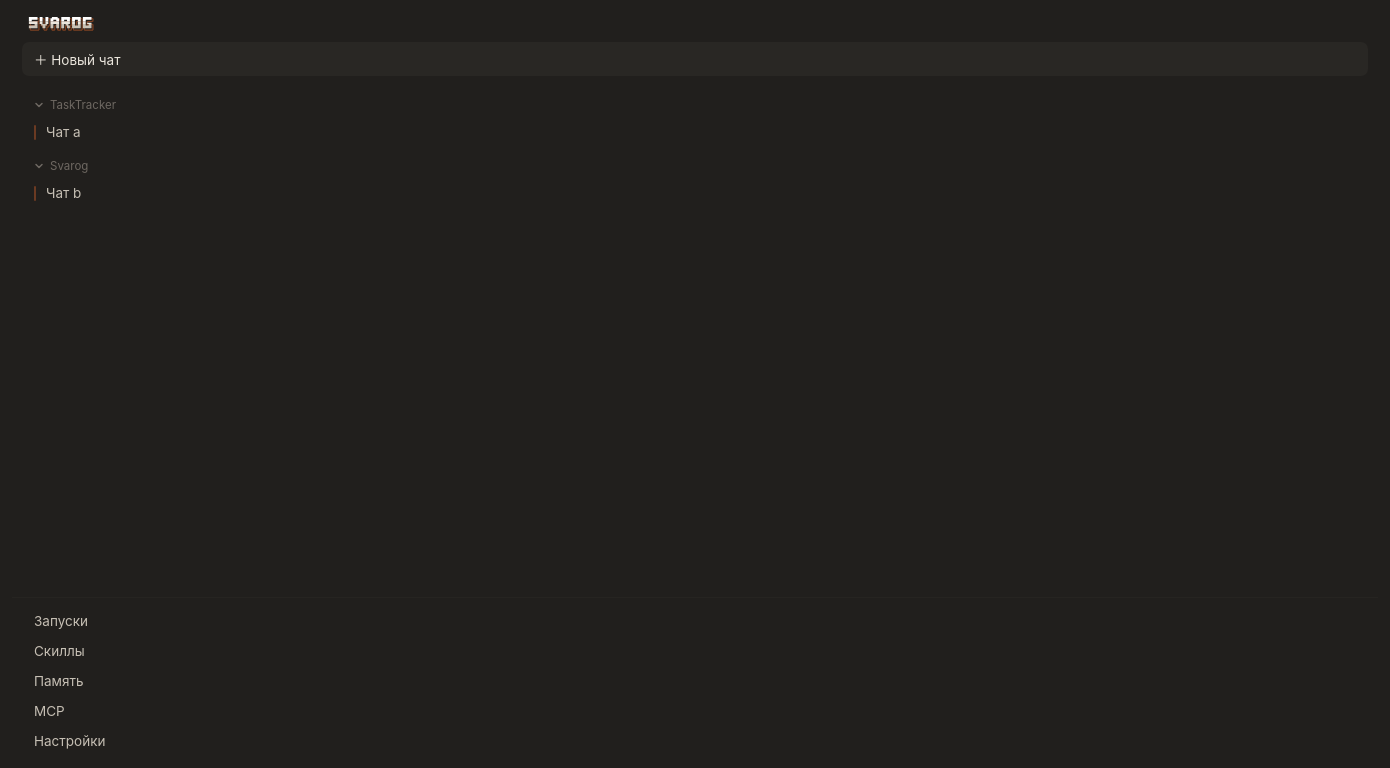
Test: группировка чатов по папкам › клик по заголовку сворачивает и разворачивает папку
Check: the text "Чат a" is shown, box [46, 124, 81, 140]
Click the button with test id "nav-group" showing "TaskTracker".
click(83, 105)  # box [12, 86, 1378, 117]
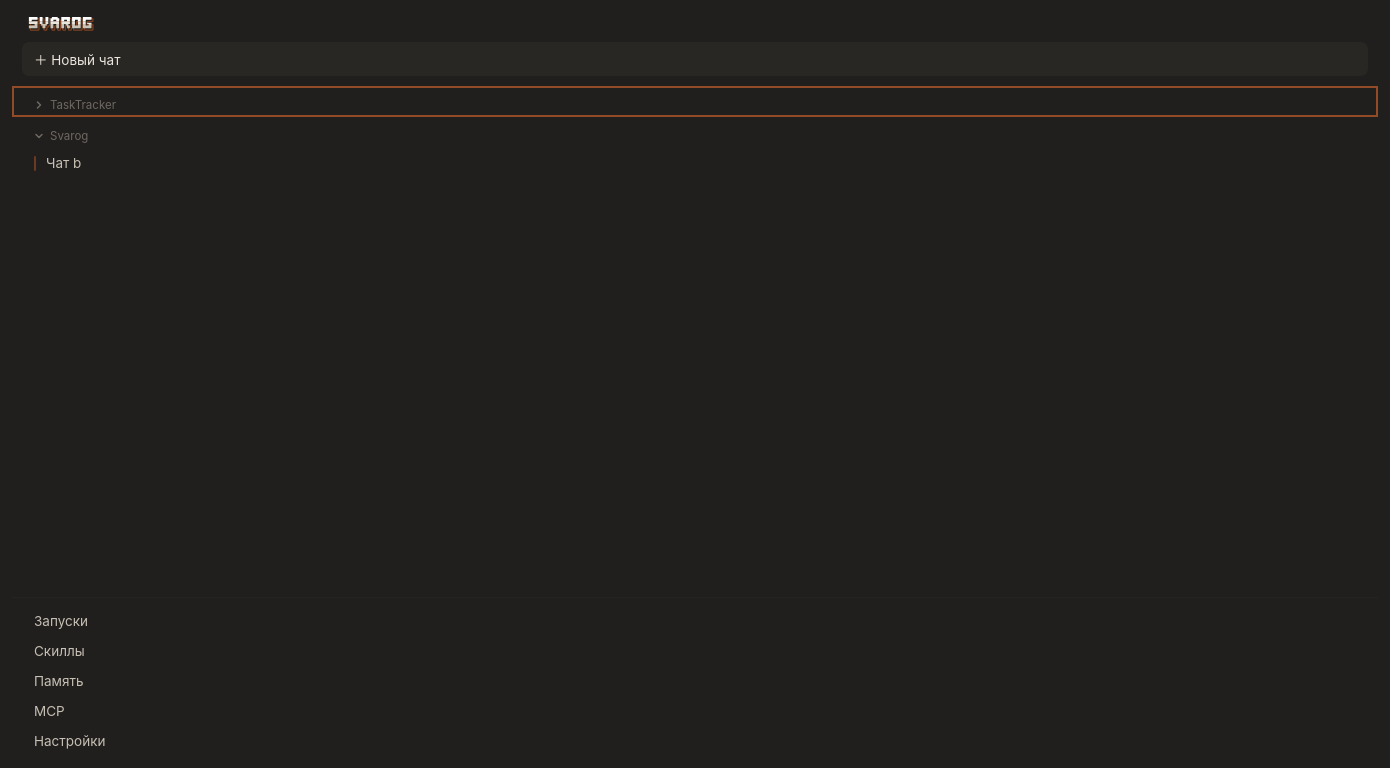
Check: the text "Чат b" is shown, box [46, 155, 81, 171]
Check: the button "Чат a" is gone
Click the button with test id "nav-group" showing "TaskTracker".
click(83, 105)  # box [12, 86, 1378, 117]
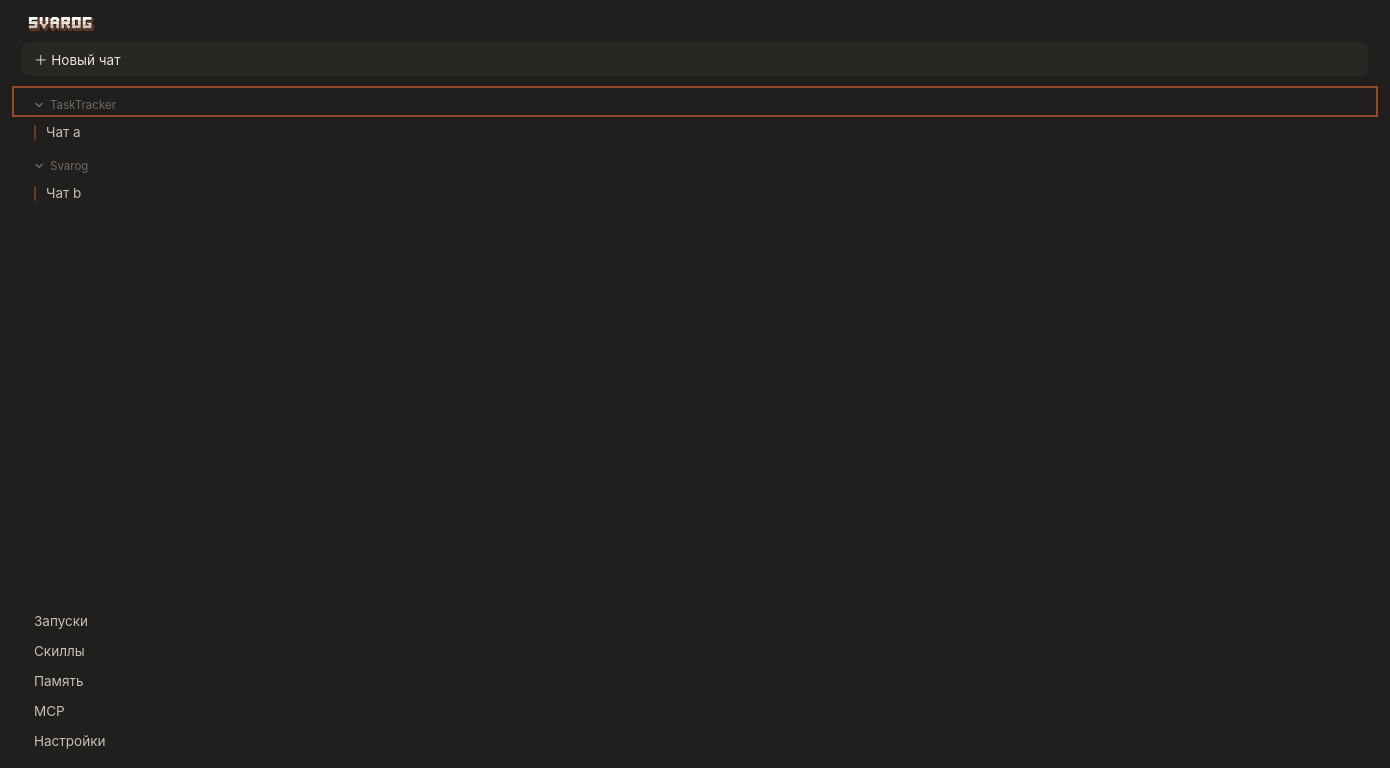
Check: the text "Чат a" is shown, box [46, 124, 81, 140]
